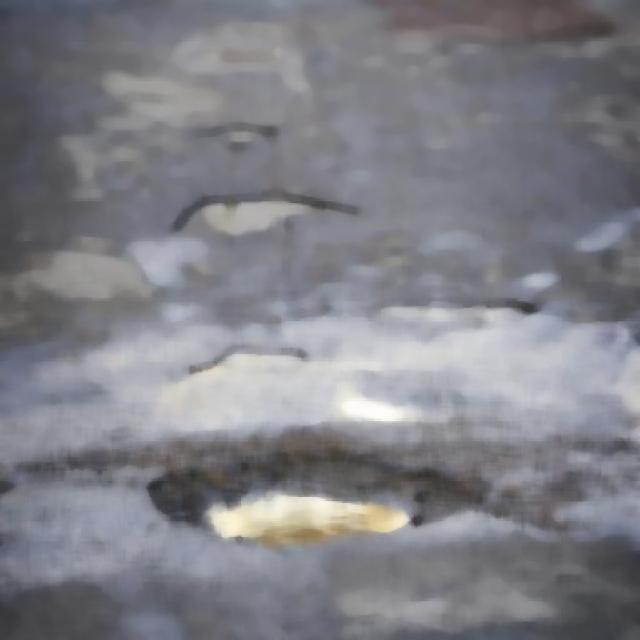Pothole: (161, 443, 425, 571), (188, 177, 342, 265), (371, 284, 566, 344), (192, 335, 322, 396), (222, 119, 295, 152)
